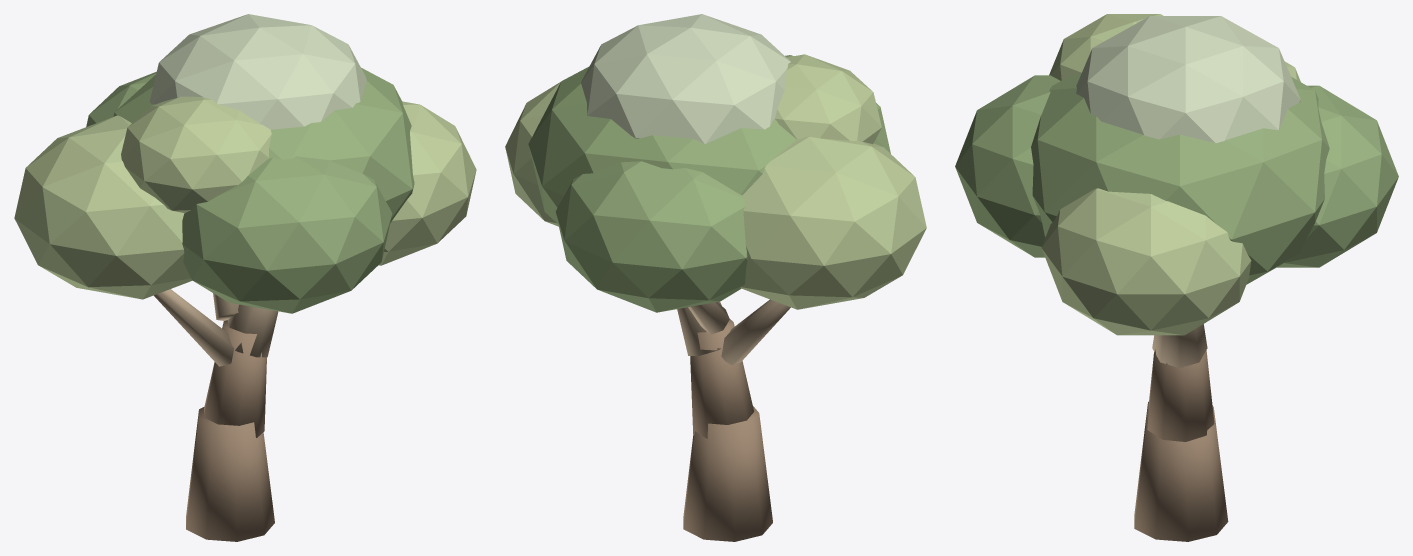
Rendered from arbol.glb.
The picture shows the model from 3 angles, left to right: view 1: azimuth 30°, elevation 25°; view 2: azimuth 150°, elevation 25°; view 3: azimuth 270°, elevation 25°; orthographic projection. The views are drawn at different scales.
Parts seen in each view (by area): view 1: arbol; view 2: arbol; view 3: arbol.
Part boxes in pixels (left/top/right/bottom): arbol: left=14, top=14, right=476, bottom=541; arbol: left=505, top=14, right=926, bottom=541; arbol: left=955, top=14, right=1398, bottom=541.
Size of the model in its own units: 4.3 by 4.9 by 3.85.
